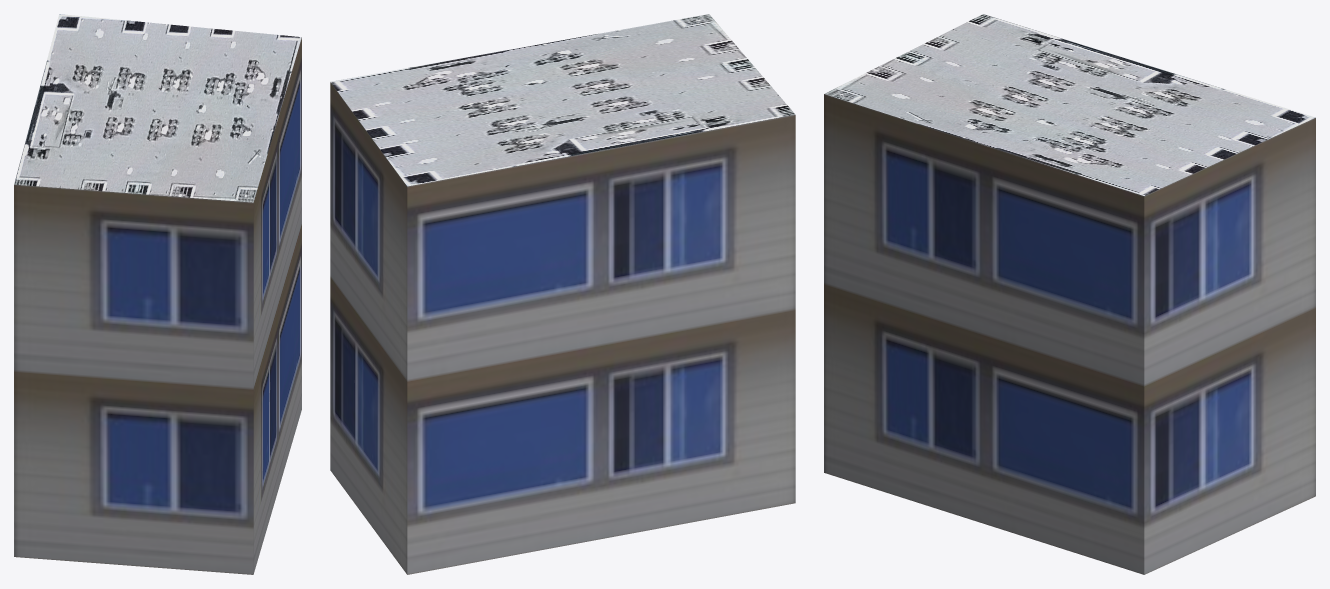
The model's file is ResTex__2767.fbx.
The picture shows the model from 3 angles, left to right: view 1: azimuth 30°, elevation 25°; view 2: azimuth 150°, elevation 25°; view 3: azimuth 270°, elevation 25°; orthographic projection. The views are drawn at different scales.
Parts seen in each view (by area): view 1: CityEngineMaterial_23_m, CityEngineMaterial_8_m; view 2: CityEngineMaterial_23_m, CityEngineMaterial_8_m; view 3: CityEngineMaterial_23_m, CityEngineMaterial_8_m.
Part boxes in pixels (x1,y1,x2,y2): CityEngineMaterial_23_m: (14, 38, 301, 574); CityEngineMaterial_8_m: (14, 14, 301, 202); CityEngineMaterial_23_m: (330, 82, 795, 574); CityEngineMaterial_8_m: (330, 14, 795, 186); CityEngineMaterial_23_m: (824, 94, 1315, 574); CityEngineMaterial_8_m: (824, 14, 1315, 195).
Bounding box in the file's own units: 6.19 × 6 × 7.06.
2 materials, 2 textured.
